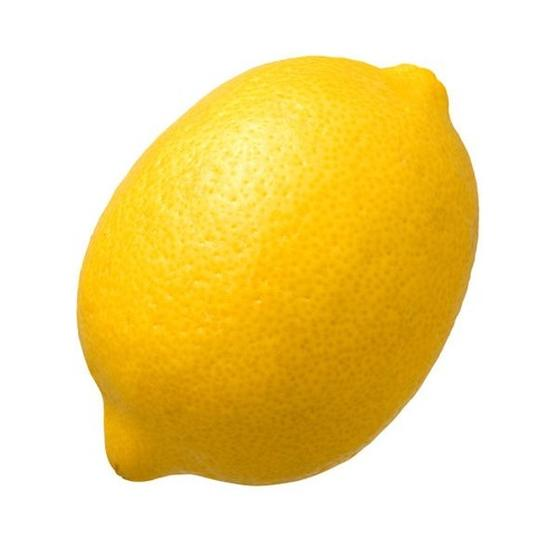lemon: (65, 57, 477, 484)
